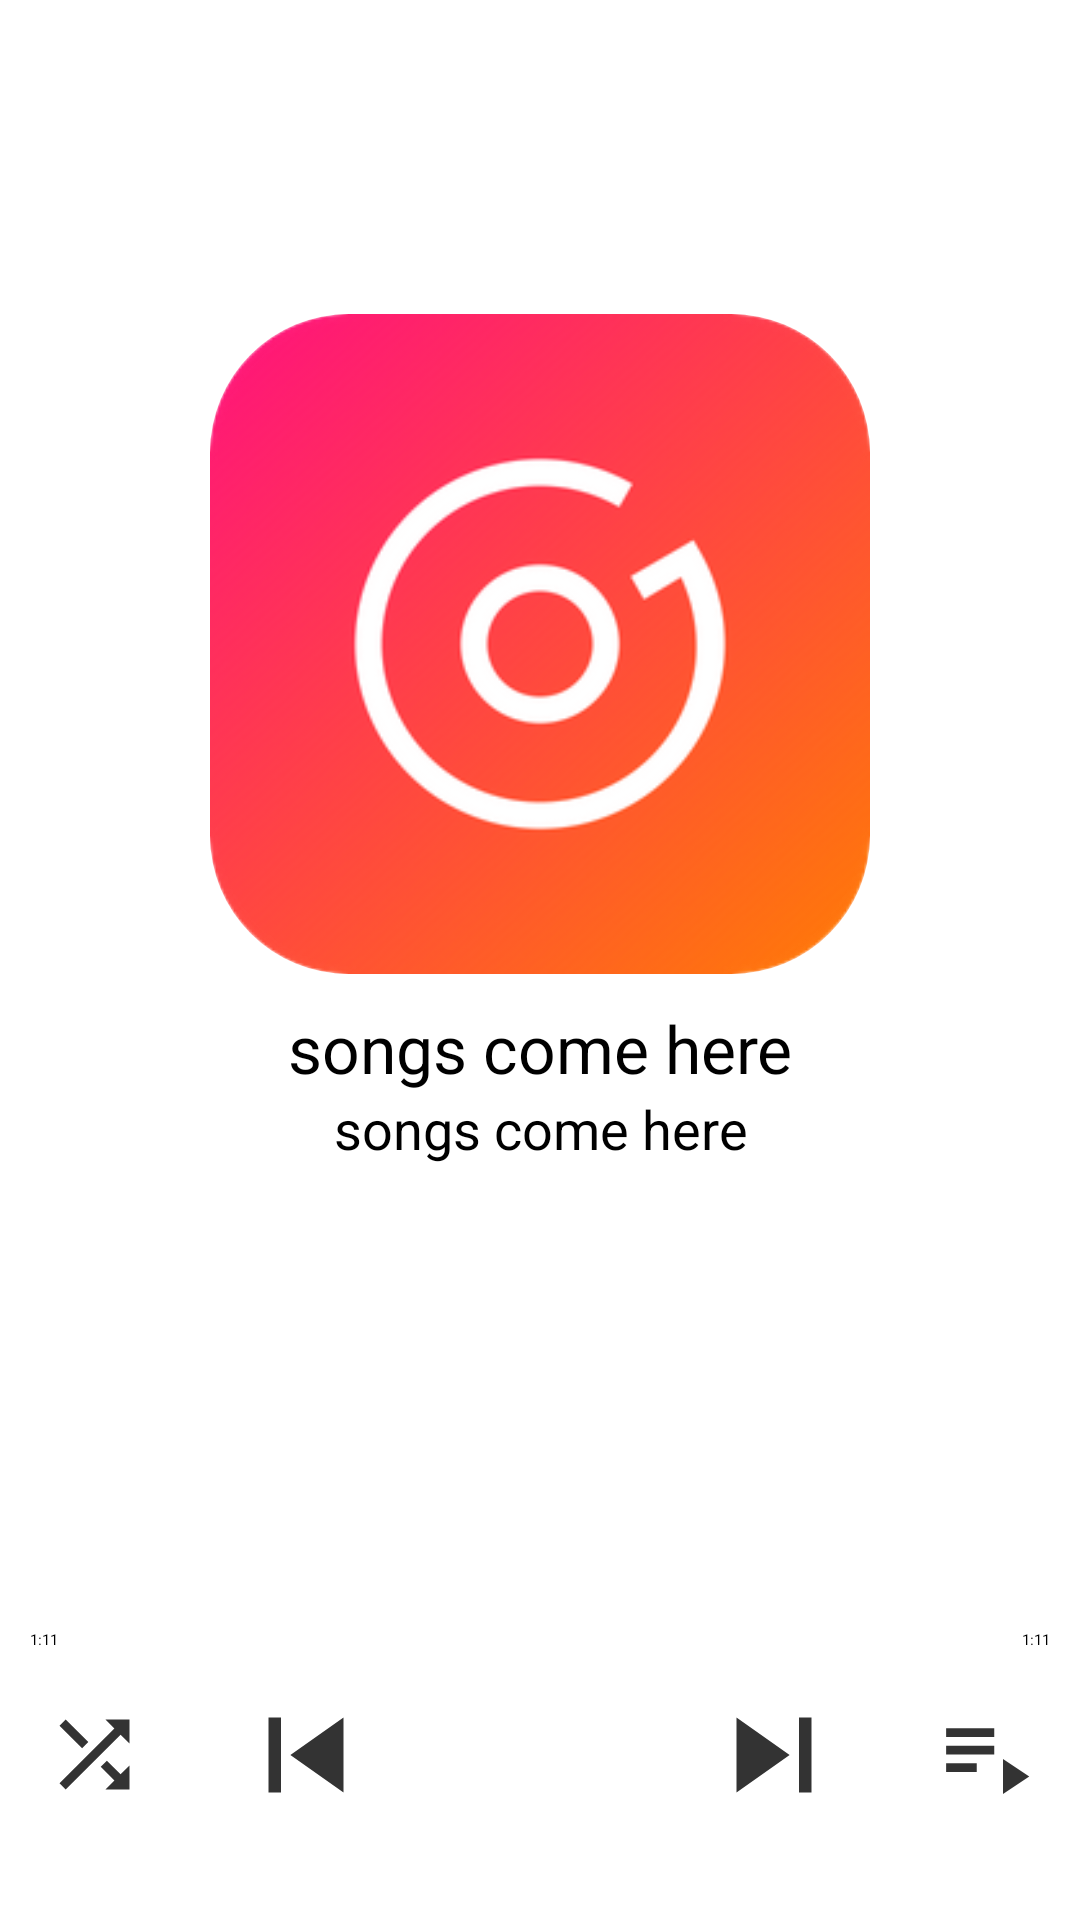

Icons on this 1080*1920 Android screen, each with the point to tap as (x=x, y=y):
music list: (x=987, y=1761)
next: (x=774, y=1755)
prev: (x=306, y=1755)
shuffle: (x=94, y=1754)
